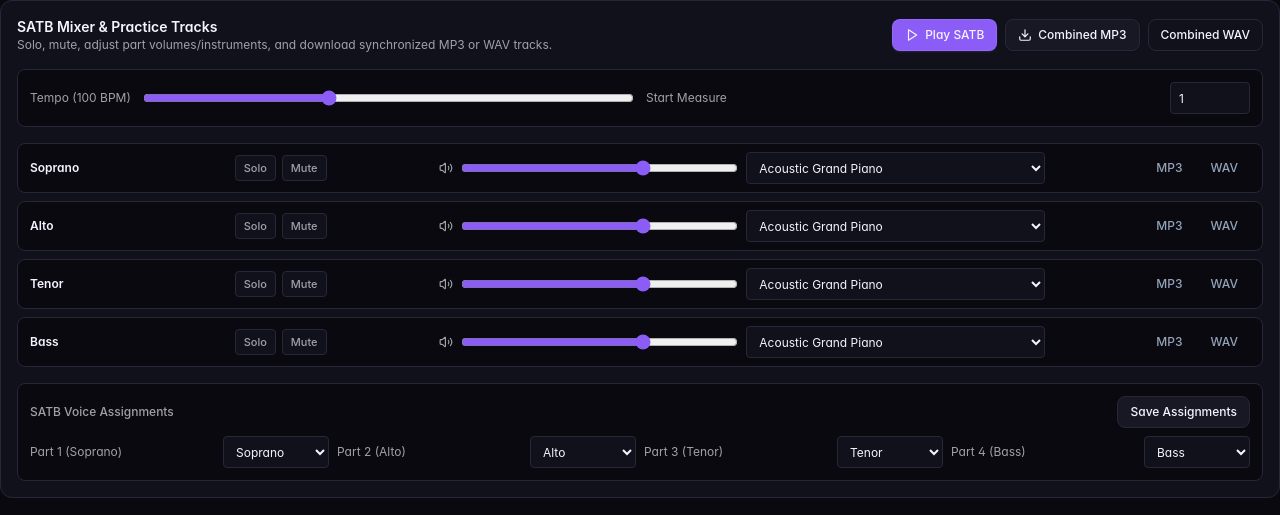
Test case: SATBMixerPanel › supports Solo/Mute/Volume/Tempo, saves assignments, and downloads SATB MP3s
Later steps or results of the test are not shown.
Check: the dropdown named "Soprano Sound" shows "Acoustic Grand Piano", box [746,152,1045,184]
Solo & Mute toggles
Click the 1st button "Solo". click: (255, 168)
box: [235,155,276,181]
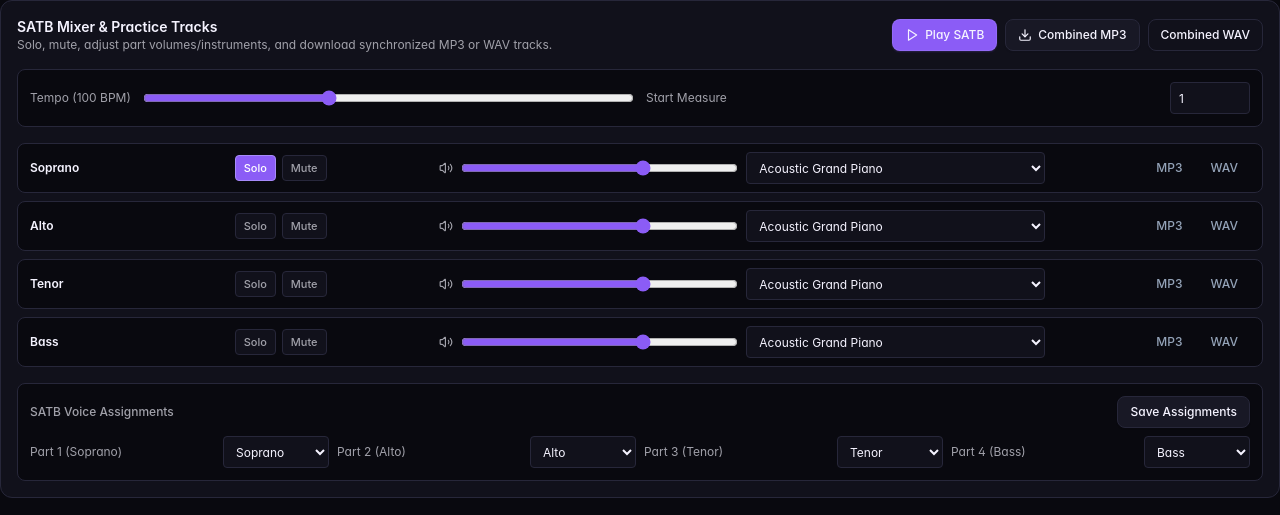
Check: the 1st button "Solo" is pressed, box [235,155,276,181]
Click the 2nd button "Mute". click: (304, 226)
box: [282,213,327,239]
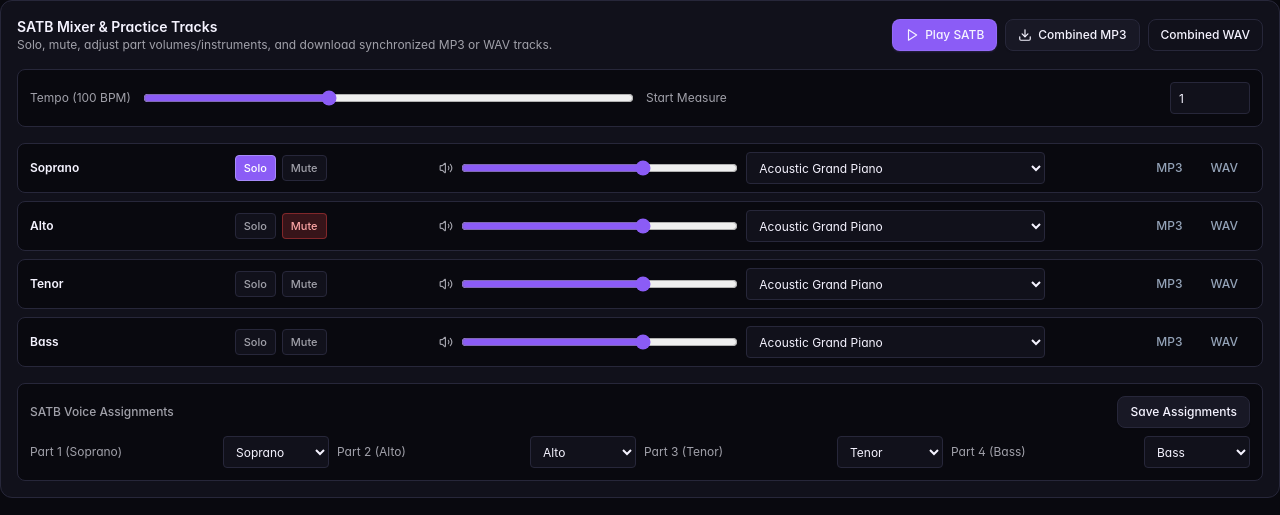
Check: the 2nd button "Mute" is pressed, box [282,213,327,239]
